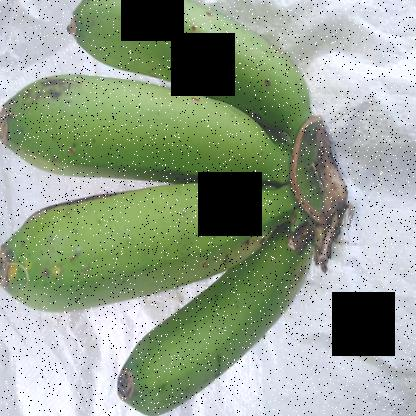unripe: (0, 65, 298, 206), (1, 174, 286, 317), (87, 246, 321, 415), (73, 0, 323, 132)
